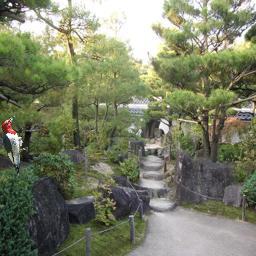Woodpecker: (1, 115, 28, 178)
